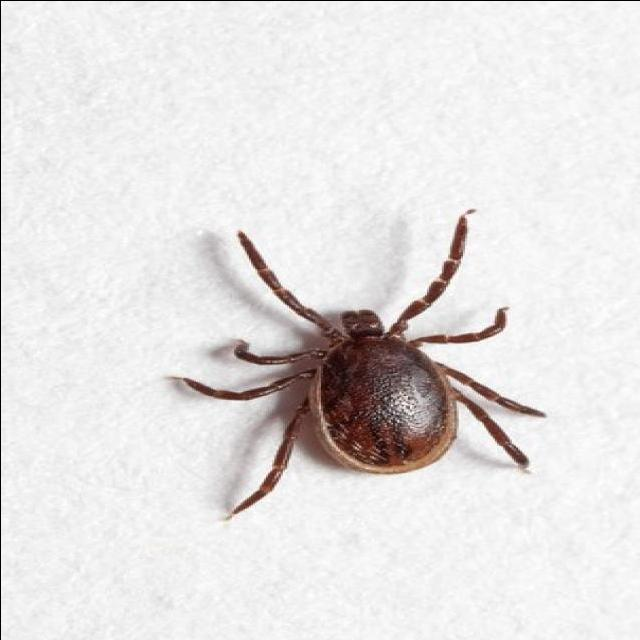Ixodes Ricinus-M: (180, 209, 547, 513)
